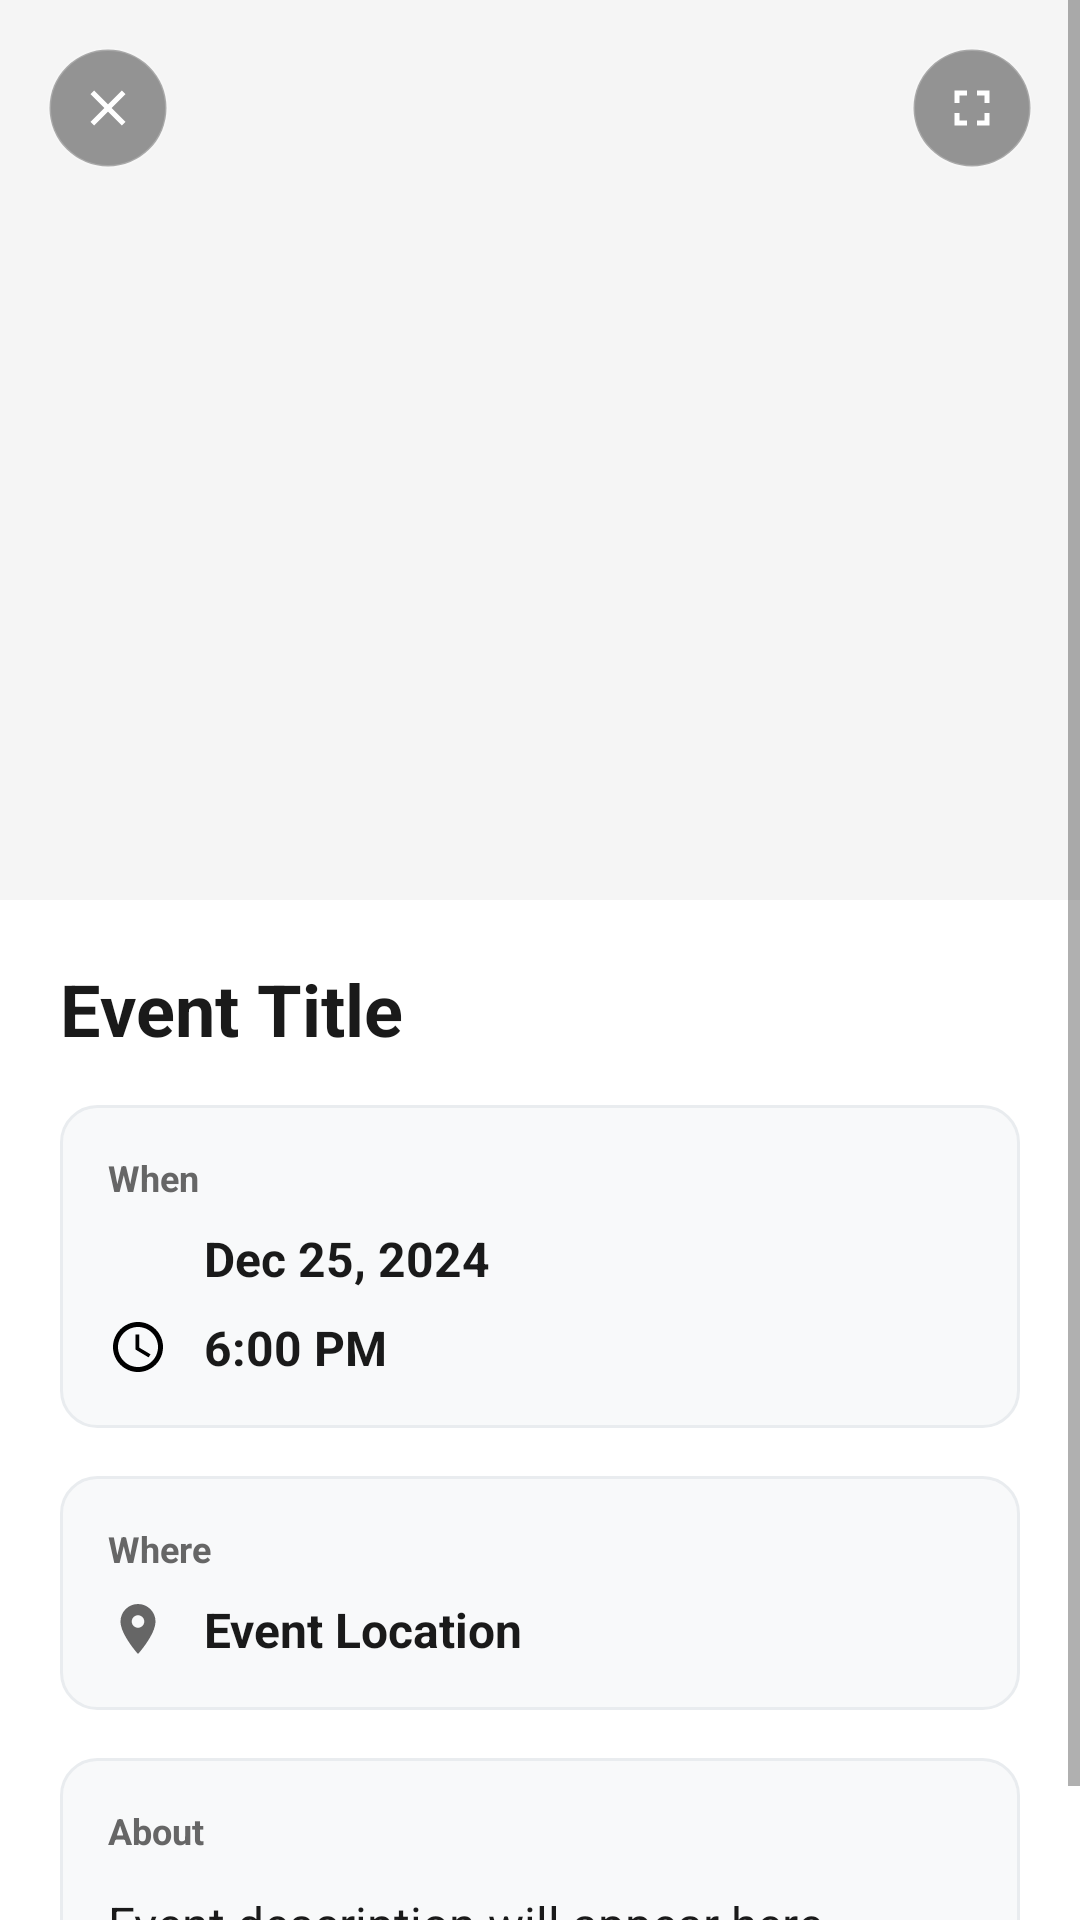

Icon click points for this 1080*1920 phone screenshot, format point (x, y):
close: point (108, 108)
fullscreen: point (972, 108)
time: point (138, 1347)
